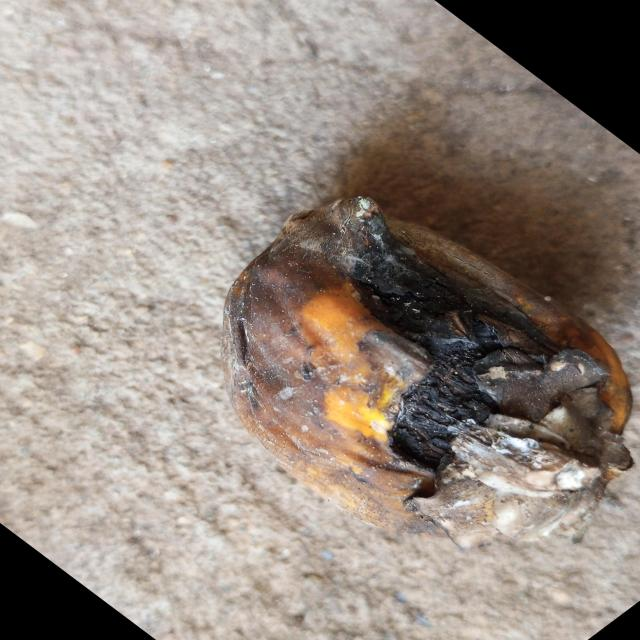damaged: (224, 197, 632, 549)
